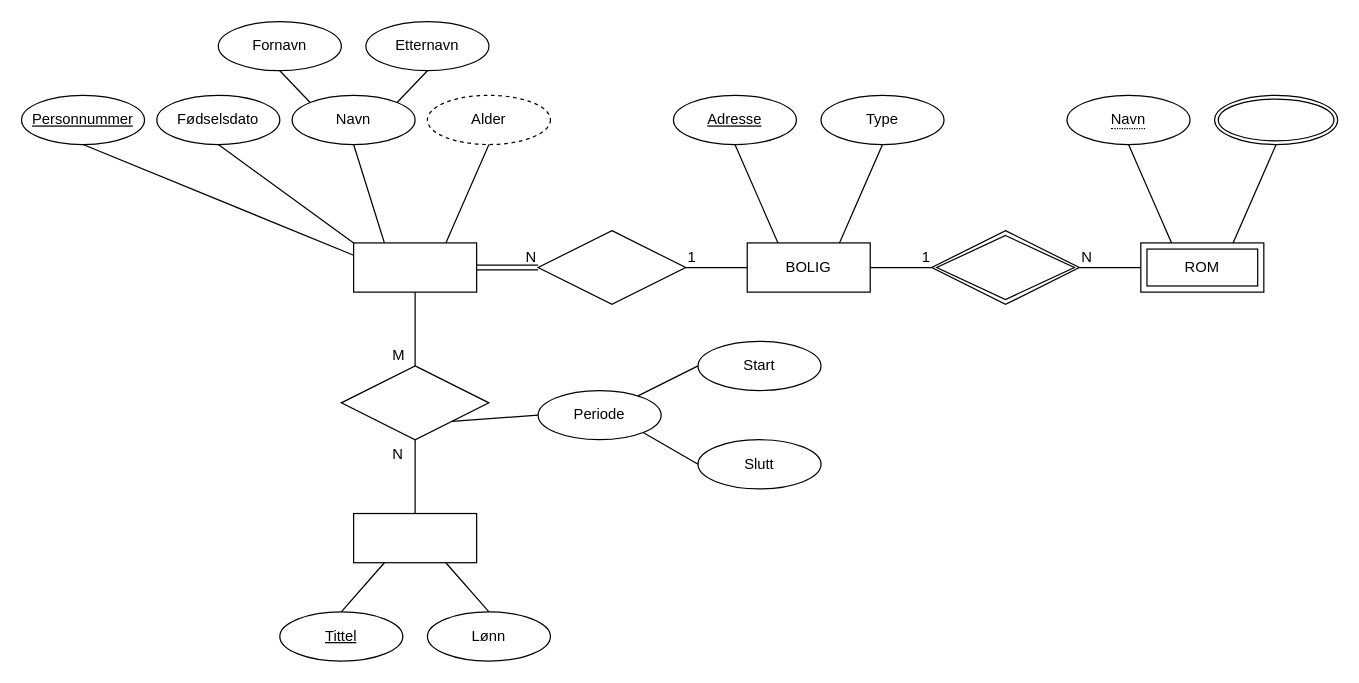
This 1359x683 diagram has some shape labels left out. Here are the shapes that lost their labels. From the top down, the centre of each, then its label:
the point at 1275,119: Bruksområder
the point at 414,267: MENNESKE
the point at 611,266: BOR
the point at 1004,266: HAR
the point at 414,402: JOBBER_I
the point at 414,537: YRKE
